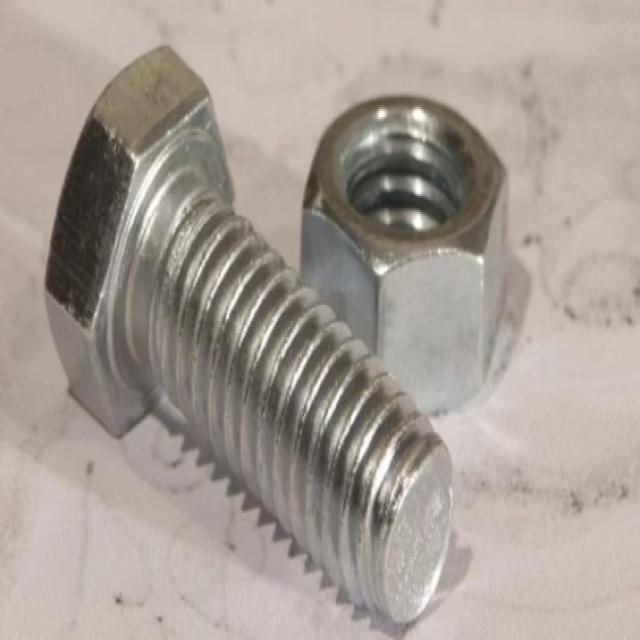Logam: (40, 30, 562, 632)
